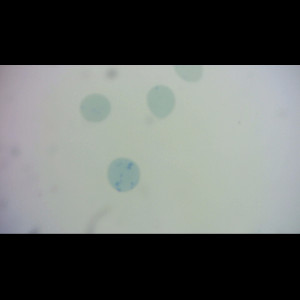aggregate reticulocyte: (106, 157, 141, 193)
punctate reticulocyte: (145, 84, 177, 120), (78, 92, 113, 123)
